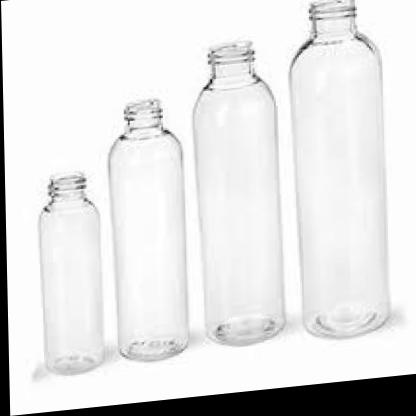Plastic: (284, 0, 400, 355), (189, 13, 278, 367), (104, 68, 192, 386), (22, 118, 100, 388)
